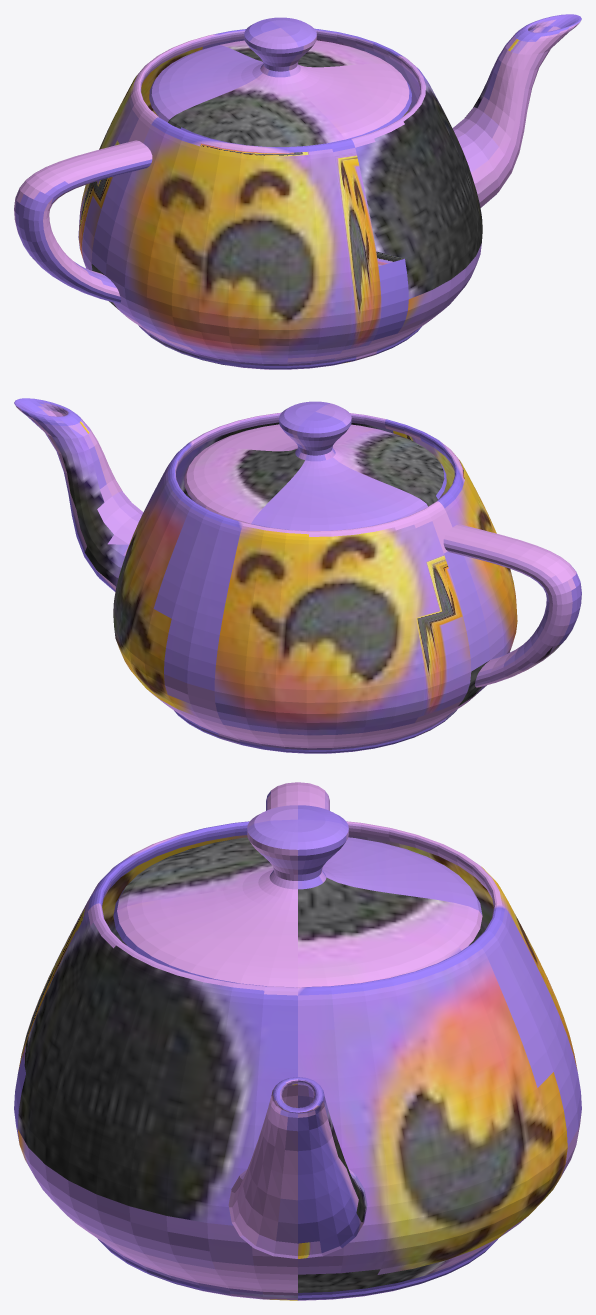
File: teapot.obj
The picture shows the model from 3 angles, top to bottom: view 1: azimuth 30°, elevation 25°; view 2: azimuth 150°, elevation 25°; view 3: azimuth 270°, elevation 25°; orthographic projection. The views are drawn at different scales.
Parts seen in each view (by area): view 1: teapot; view 2: teapot; view 3: teapot.
Boxes of the visible parts, x1=… form: teapot: x1=14, y1=14, x2=581, y2=369; teapot: x1=14, y1=398, x2=581, y2=753; teapot: x1=14, y1=782, x2=581, y2=1300.
Size of the model in its own units: 6.43 by 3.15 by 4.
Materials: 1 (1 with a texture image).
